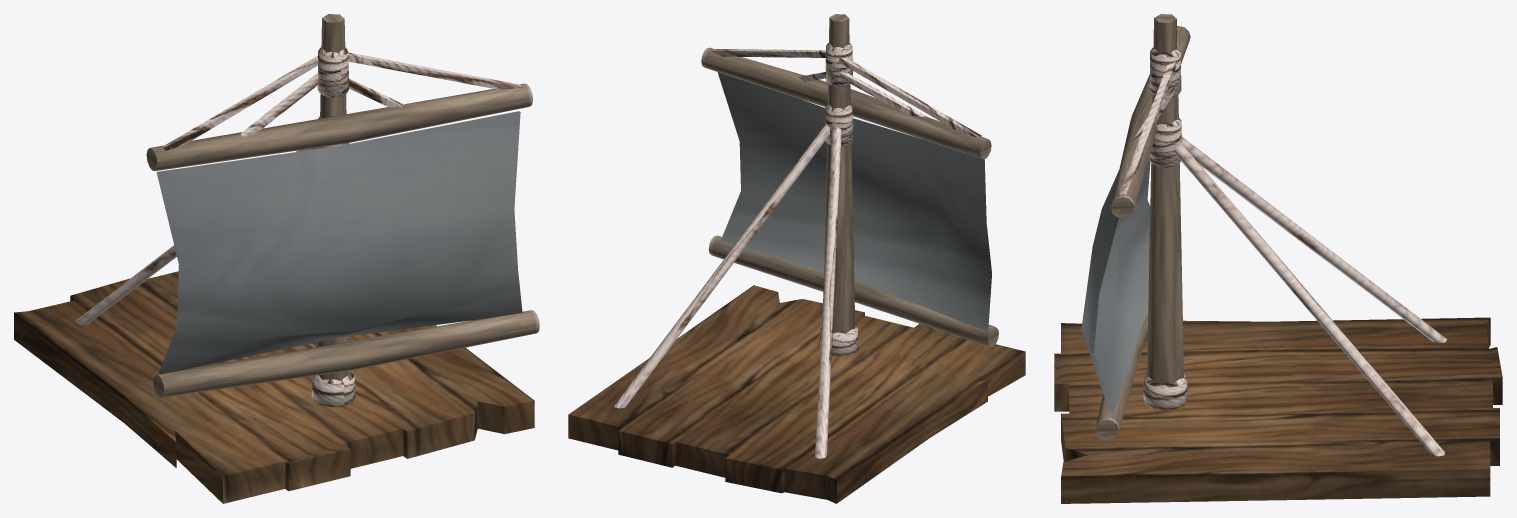
Rendered from Raft.fbx.
The picture shows the model from 3 angles, left to right: view 1: azimuth 30°, elevation 25°; view 2: azimuth 150°, elevation 25°; view 3: azimuth 270°, elevation 25°; orthographic projection. The views are drawn at different scales.
Visible parts, largest first — view 1: Raft; view 2: Raft; view 3: Raft.
Boxes of the visible parts, x1,y1,x2,y2 form: Raft: (14,14,539,503); Raft: (568,14,1025,503); Raft: (1054,14,1502,503).
Bounding box in the file's own units: 211 × 236 × 233.
